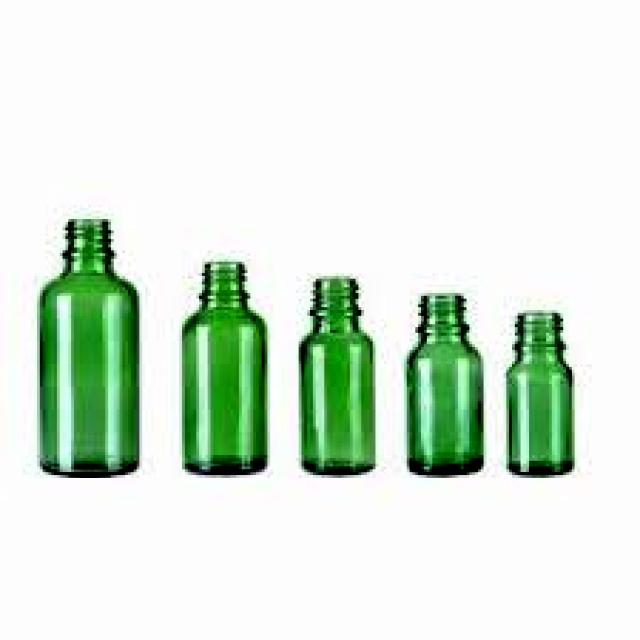Glass: (31, 211, 144, 482), (176, 256, 274, 475), (293, 271, 384, 478), (398, 288, 489, 480), (503, 306, 579, 481)
